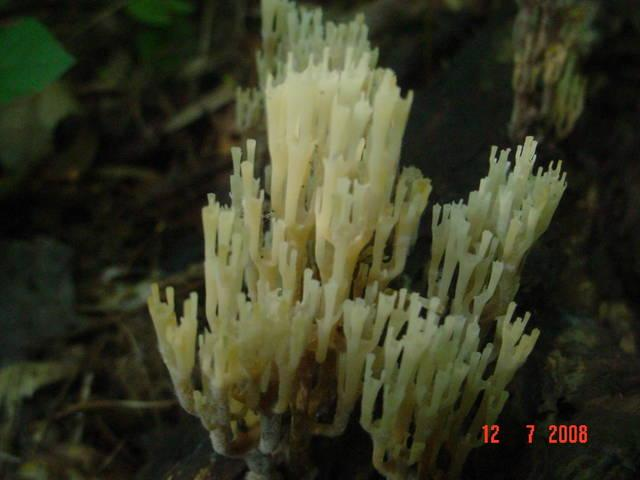edible_mushroom: (144, 1, 568, 478)
